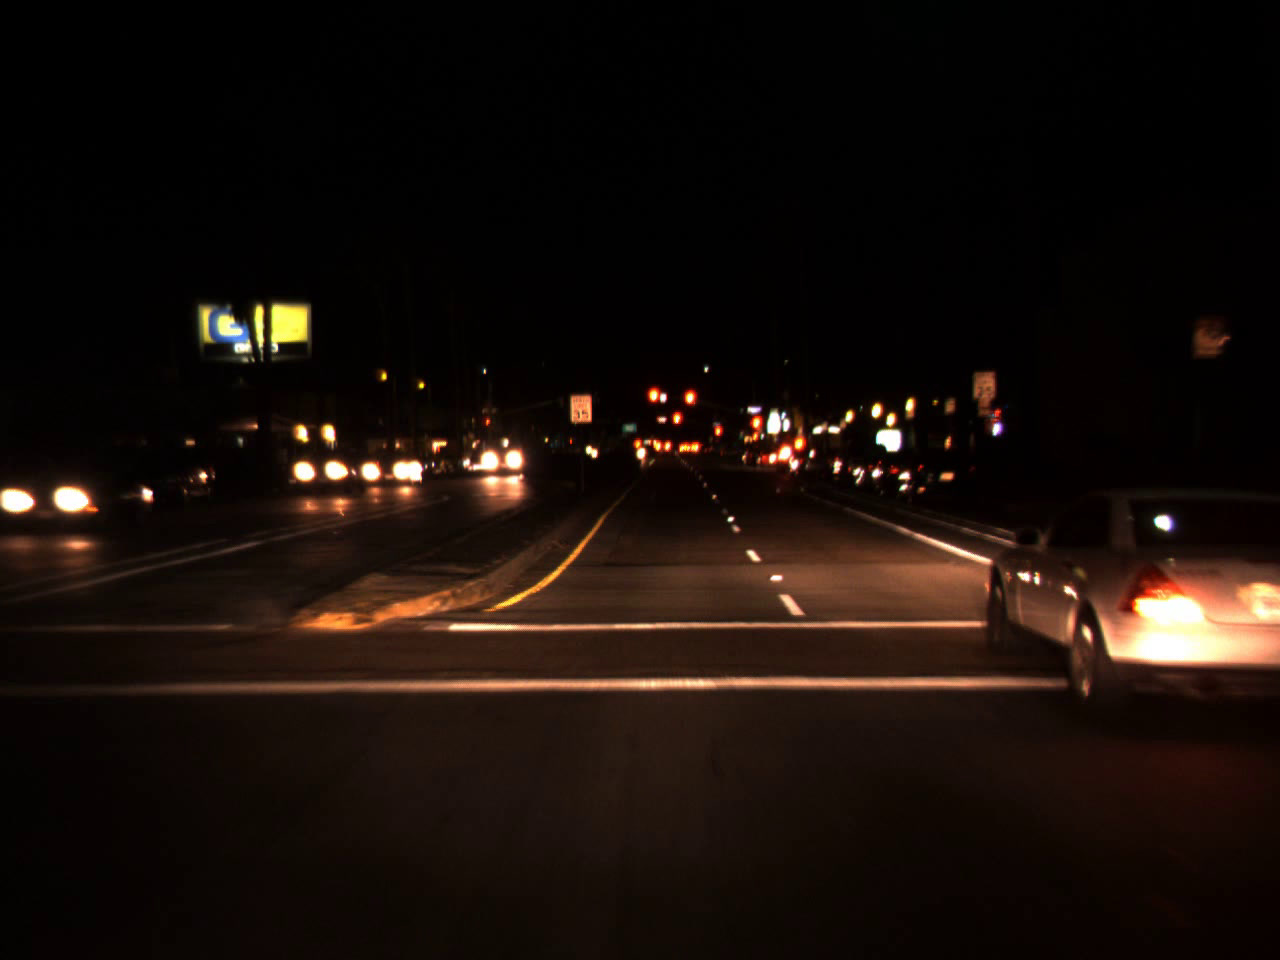stop: (646, 384, 662, 421), (748, 412, 764, 449), (682, 387, 698, 422), (713, 423, 723, 450), (672, 410, 682, 437), (485, 417, 491, 435)
